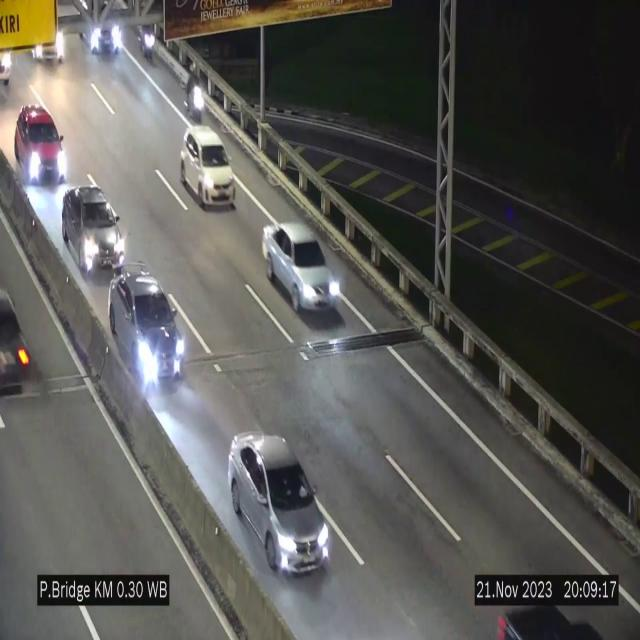Car: (228, 433, 329, 574), (105, 259, 187, 388), (264, 221, 342, 313), (61, 180, 125, 274), (10, 100, 68, 186), (181, 126, 235, 208)
Motorcycle: (182, 59, 205, 124)
